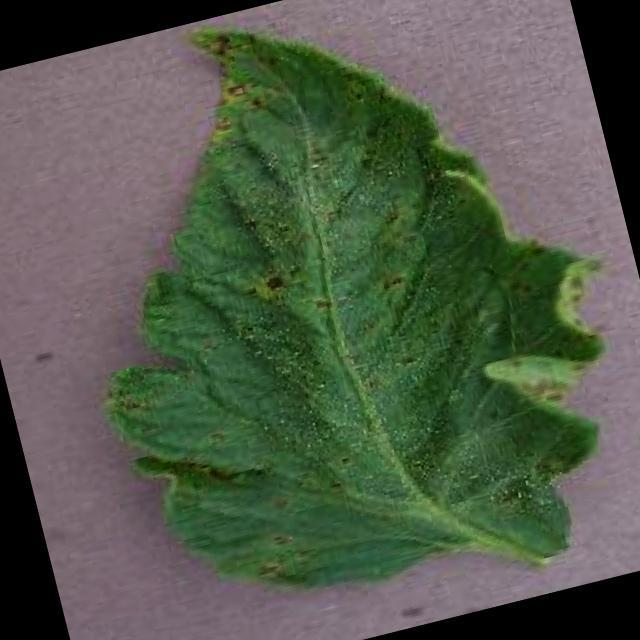Tomato Septoria spot leaf: (27, 0, 640, 640)
